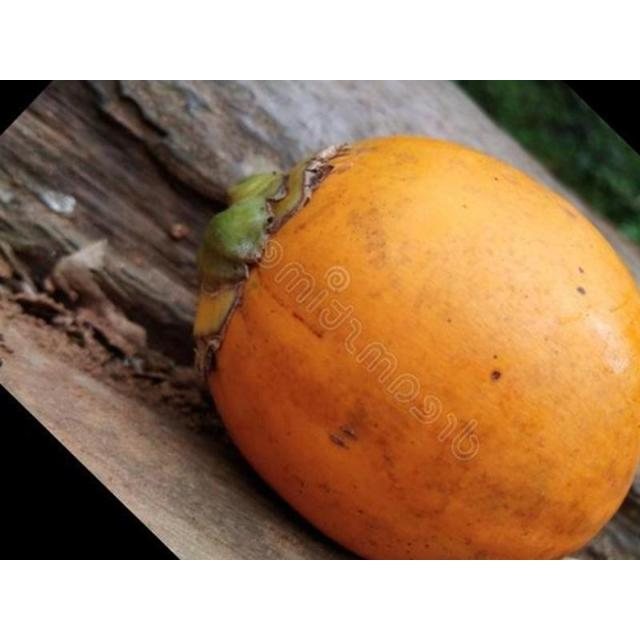good: (194, 136, 639, 559)
